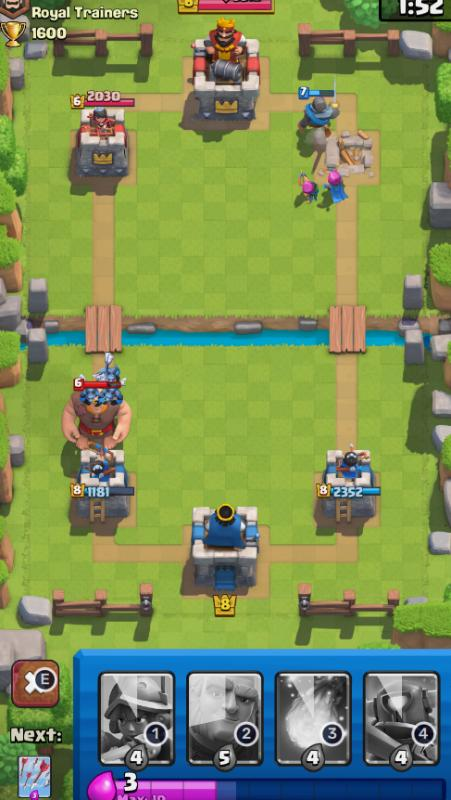archere: (319, 171, 350, 206), (292, 172, 322, 206)
chevalier: (292, 87, 344, 143)
gargouille: (92, 360, 122, 383), (83, 383, 108, 406), (104, 389, 128, 408)
geant: (61, 390, 125, 455)
